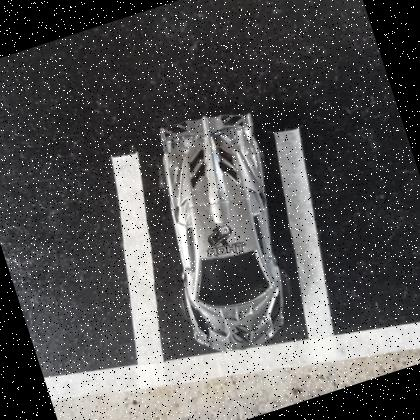Car: (157, 110, 284, 351)
